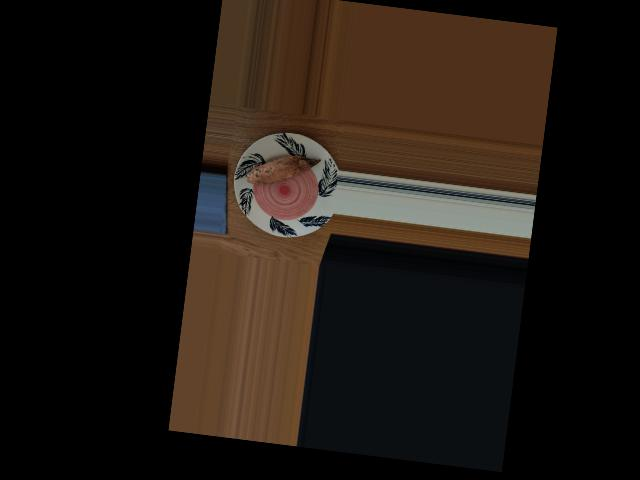sweet_potato: (249, 149, 313, 193)
